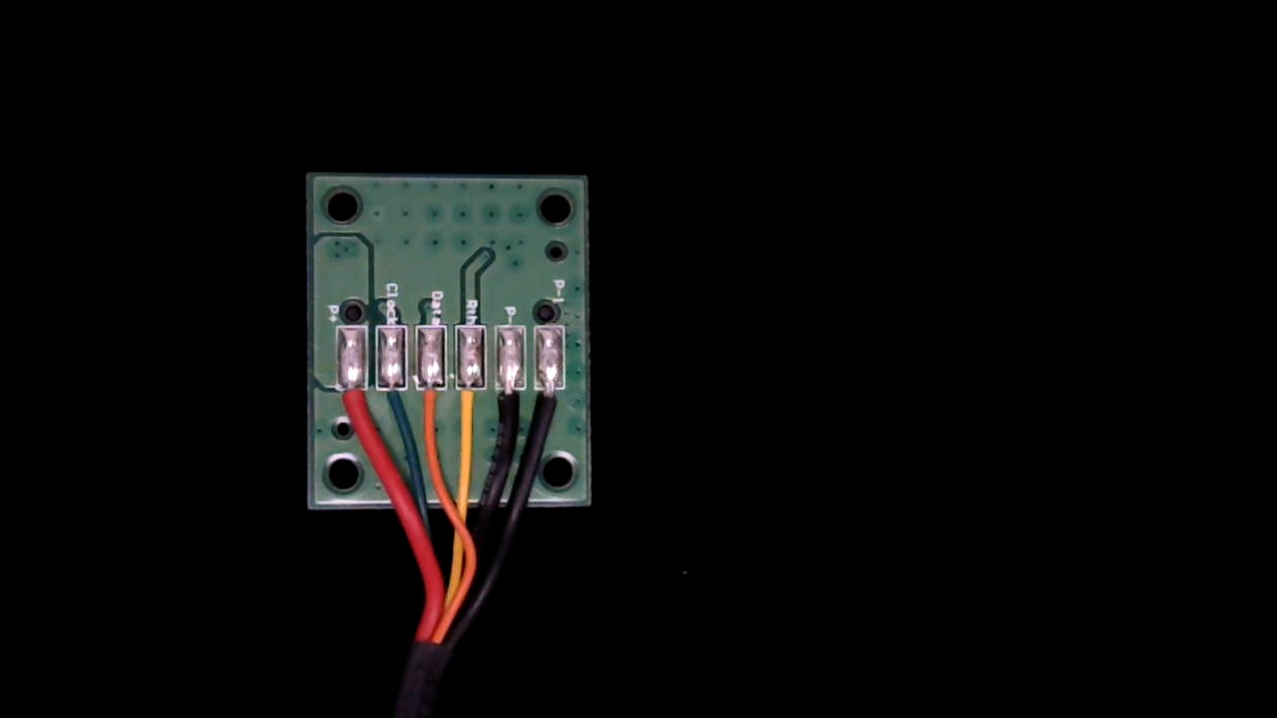Black: (491, 373, 526, 441)
Black1: (536, 373, 567, 435)
Green: (373, 369, 408, 440)
Orange: (415, 371, 448, 444)
Red: (335, 372, 370, 443)
Yellow: (454, 371, 486, 434)
